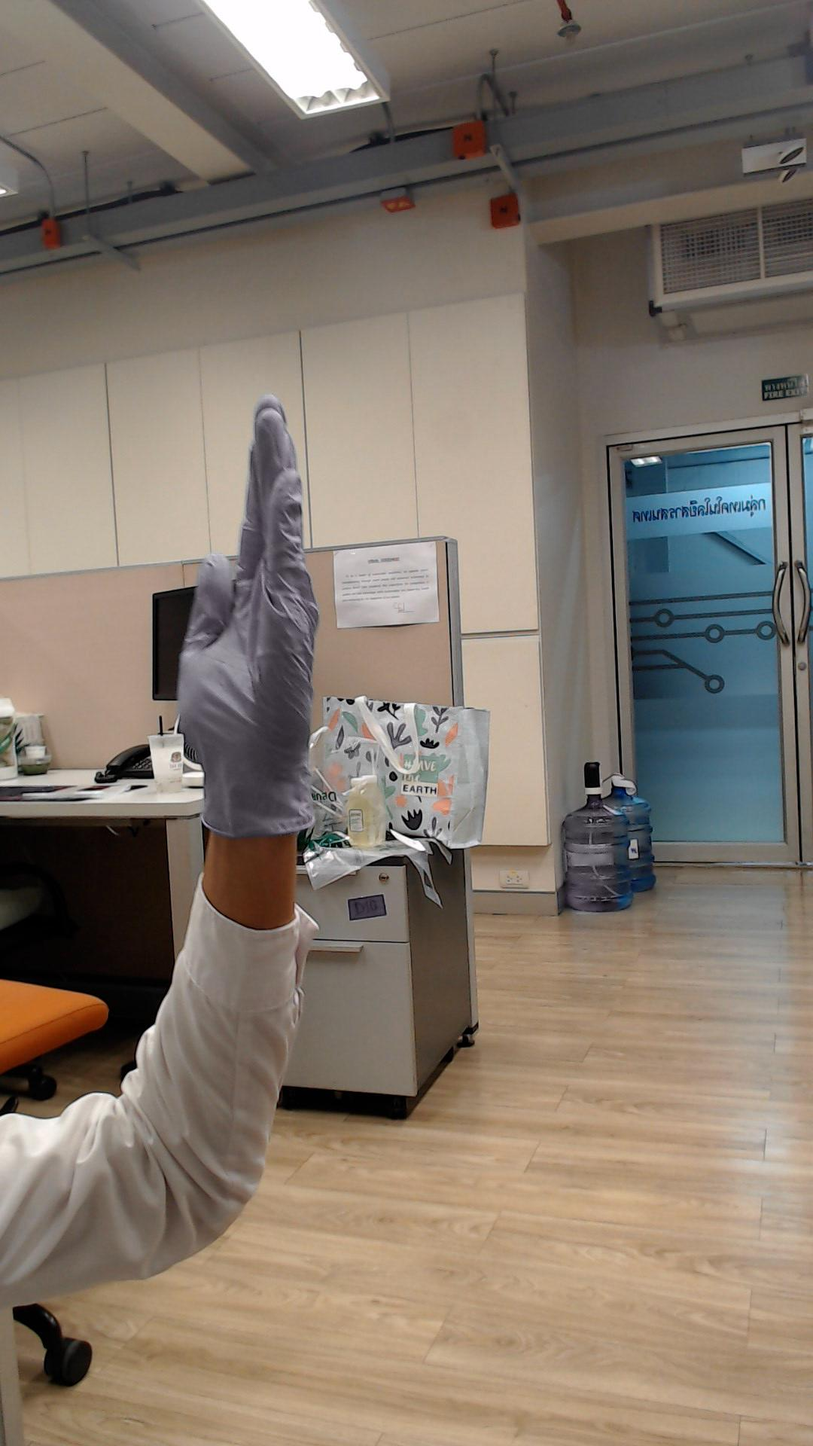gloves: (137, 354, 366, 795)
